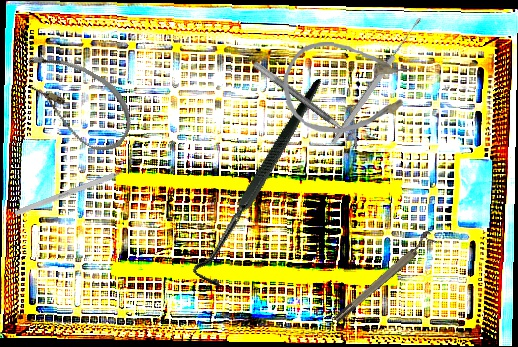Cannula: (6, 41, 146, 161), (281, 40, 415, 136)
Fixation Ring: (245, 60, 363, 154), (329, 229, 438, 325)
Hook Surgical: (140, 77, 386, 294), (14, 163, 139, 217)
Surgical Spoon: (329, 16, 424, 146)
